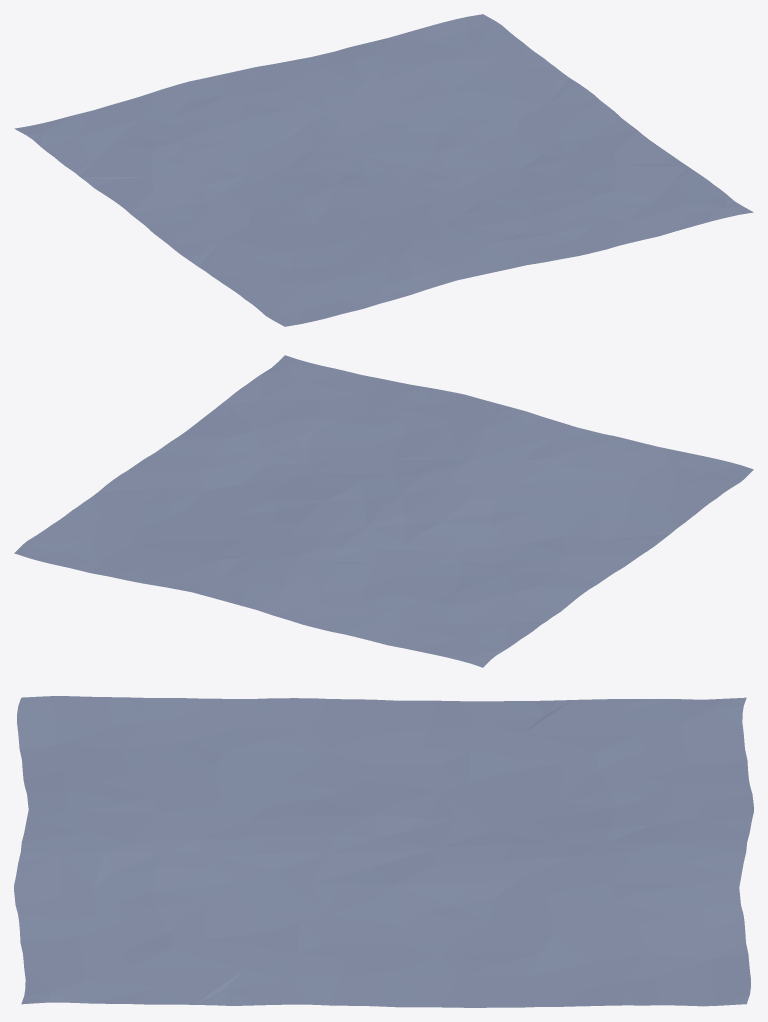
File: waterPlane1.fbx
3 renders of one model, top to bottom at view 1: azimuth 30°, elevation 25°; view 2: azimuth 150°, elevation 25°; view 3: azimuth 270°, elevation 25°, orthographic. The views are drawn at different scales.
Parts seen in each view (by area): view 1: waterplane1; view 2: waterplane1; view 3: waterplane1.
Part boxes in pixels (x1,y1,x2,y2): waterplane1: (14, 14, 753, 326); waterplane1: (14, 355, 753, 667); waterplane1: (14, 696, 753, 1007).
Bounding box in the file's own units: 8503 × 89.47 × 8568.
